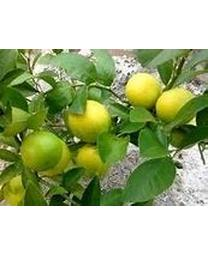lemon: (68, 100, 110, 142), (21, 131, 62, 170), (125, 74, 162, 109), (156, 88, 193, 122), (77, 145, 108, 177)
